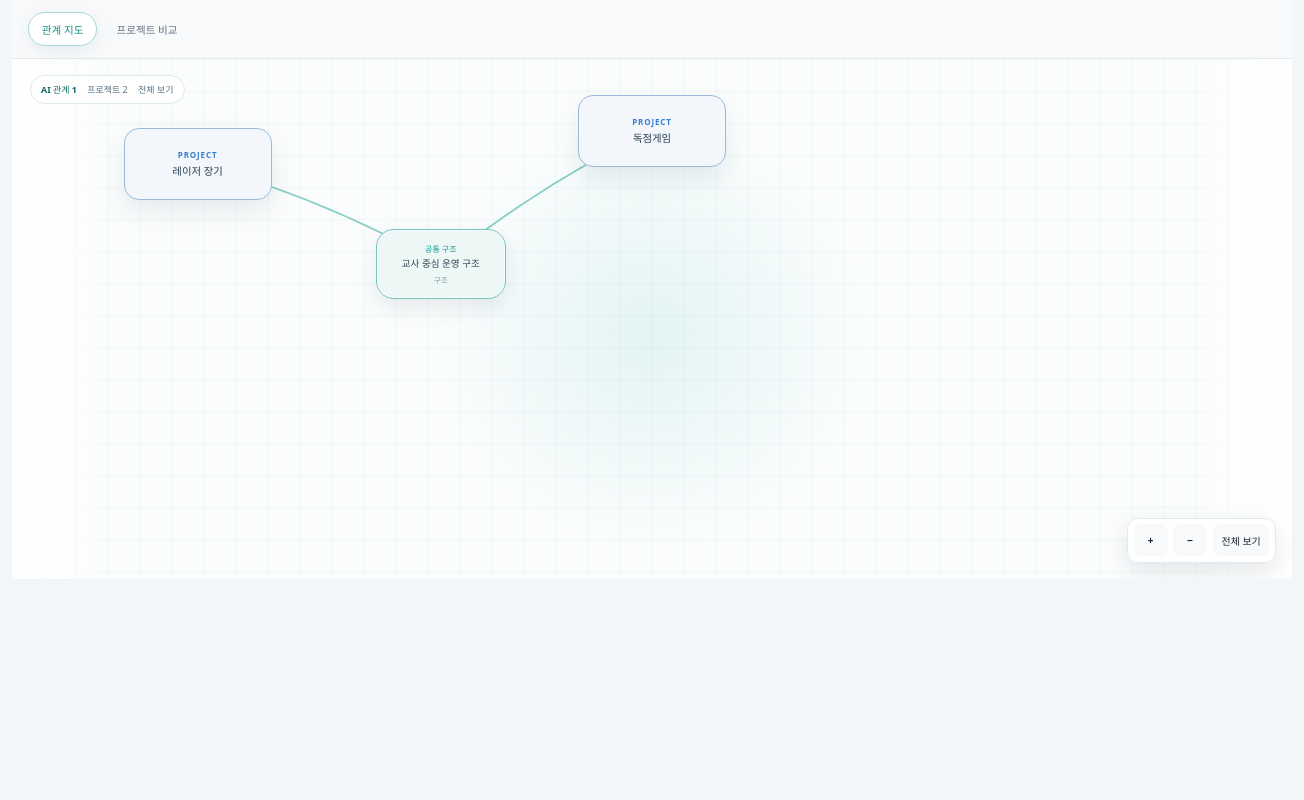
Test: KnowledgeConstellation relationship map › switches to the project comparison view without opening another page
Click the button "프로젝트 비교" at [147, 29], box [103,12,191,46]
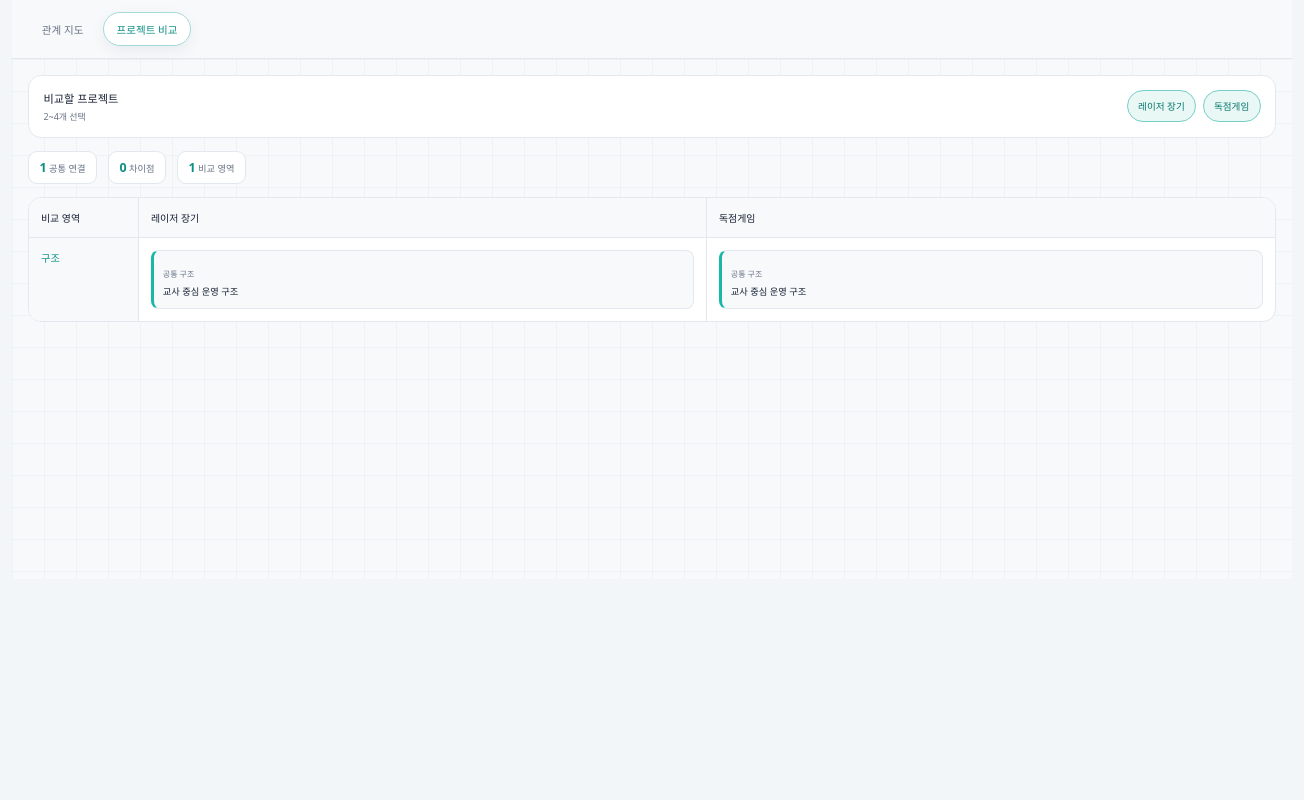
Result: the element named "프로젝트 비교 지도" is shown
Result: the element with class "comparison-metrics" shows "1 공통 연결" at [28,151,246,184]
Result: the text "구조" is shown at [29,238,139,320]
